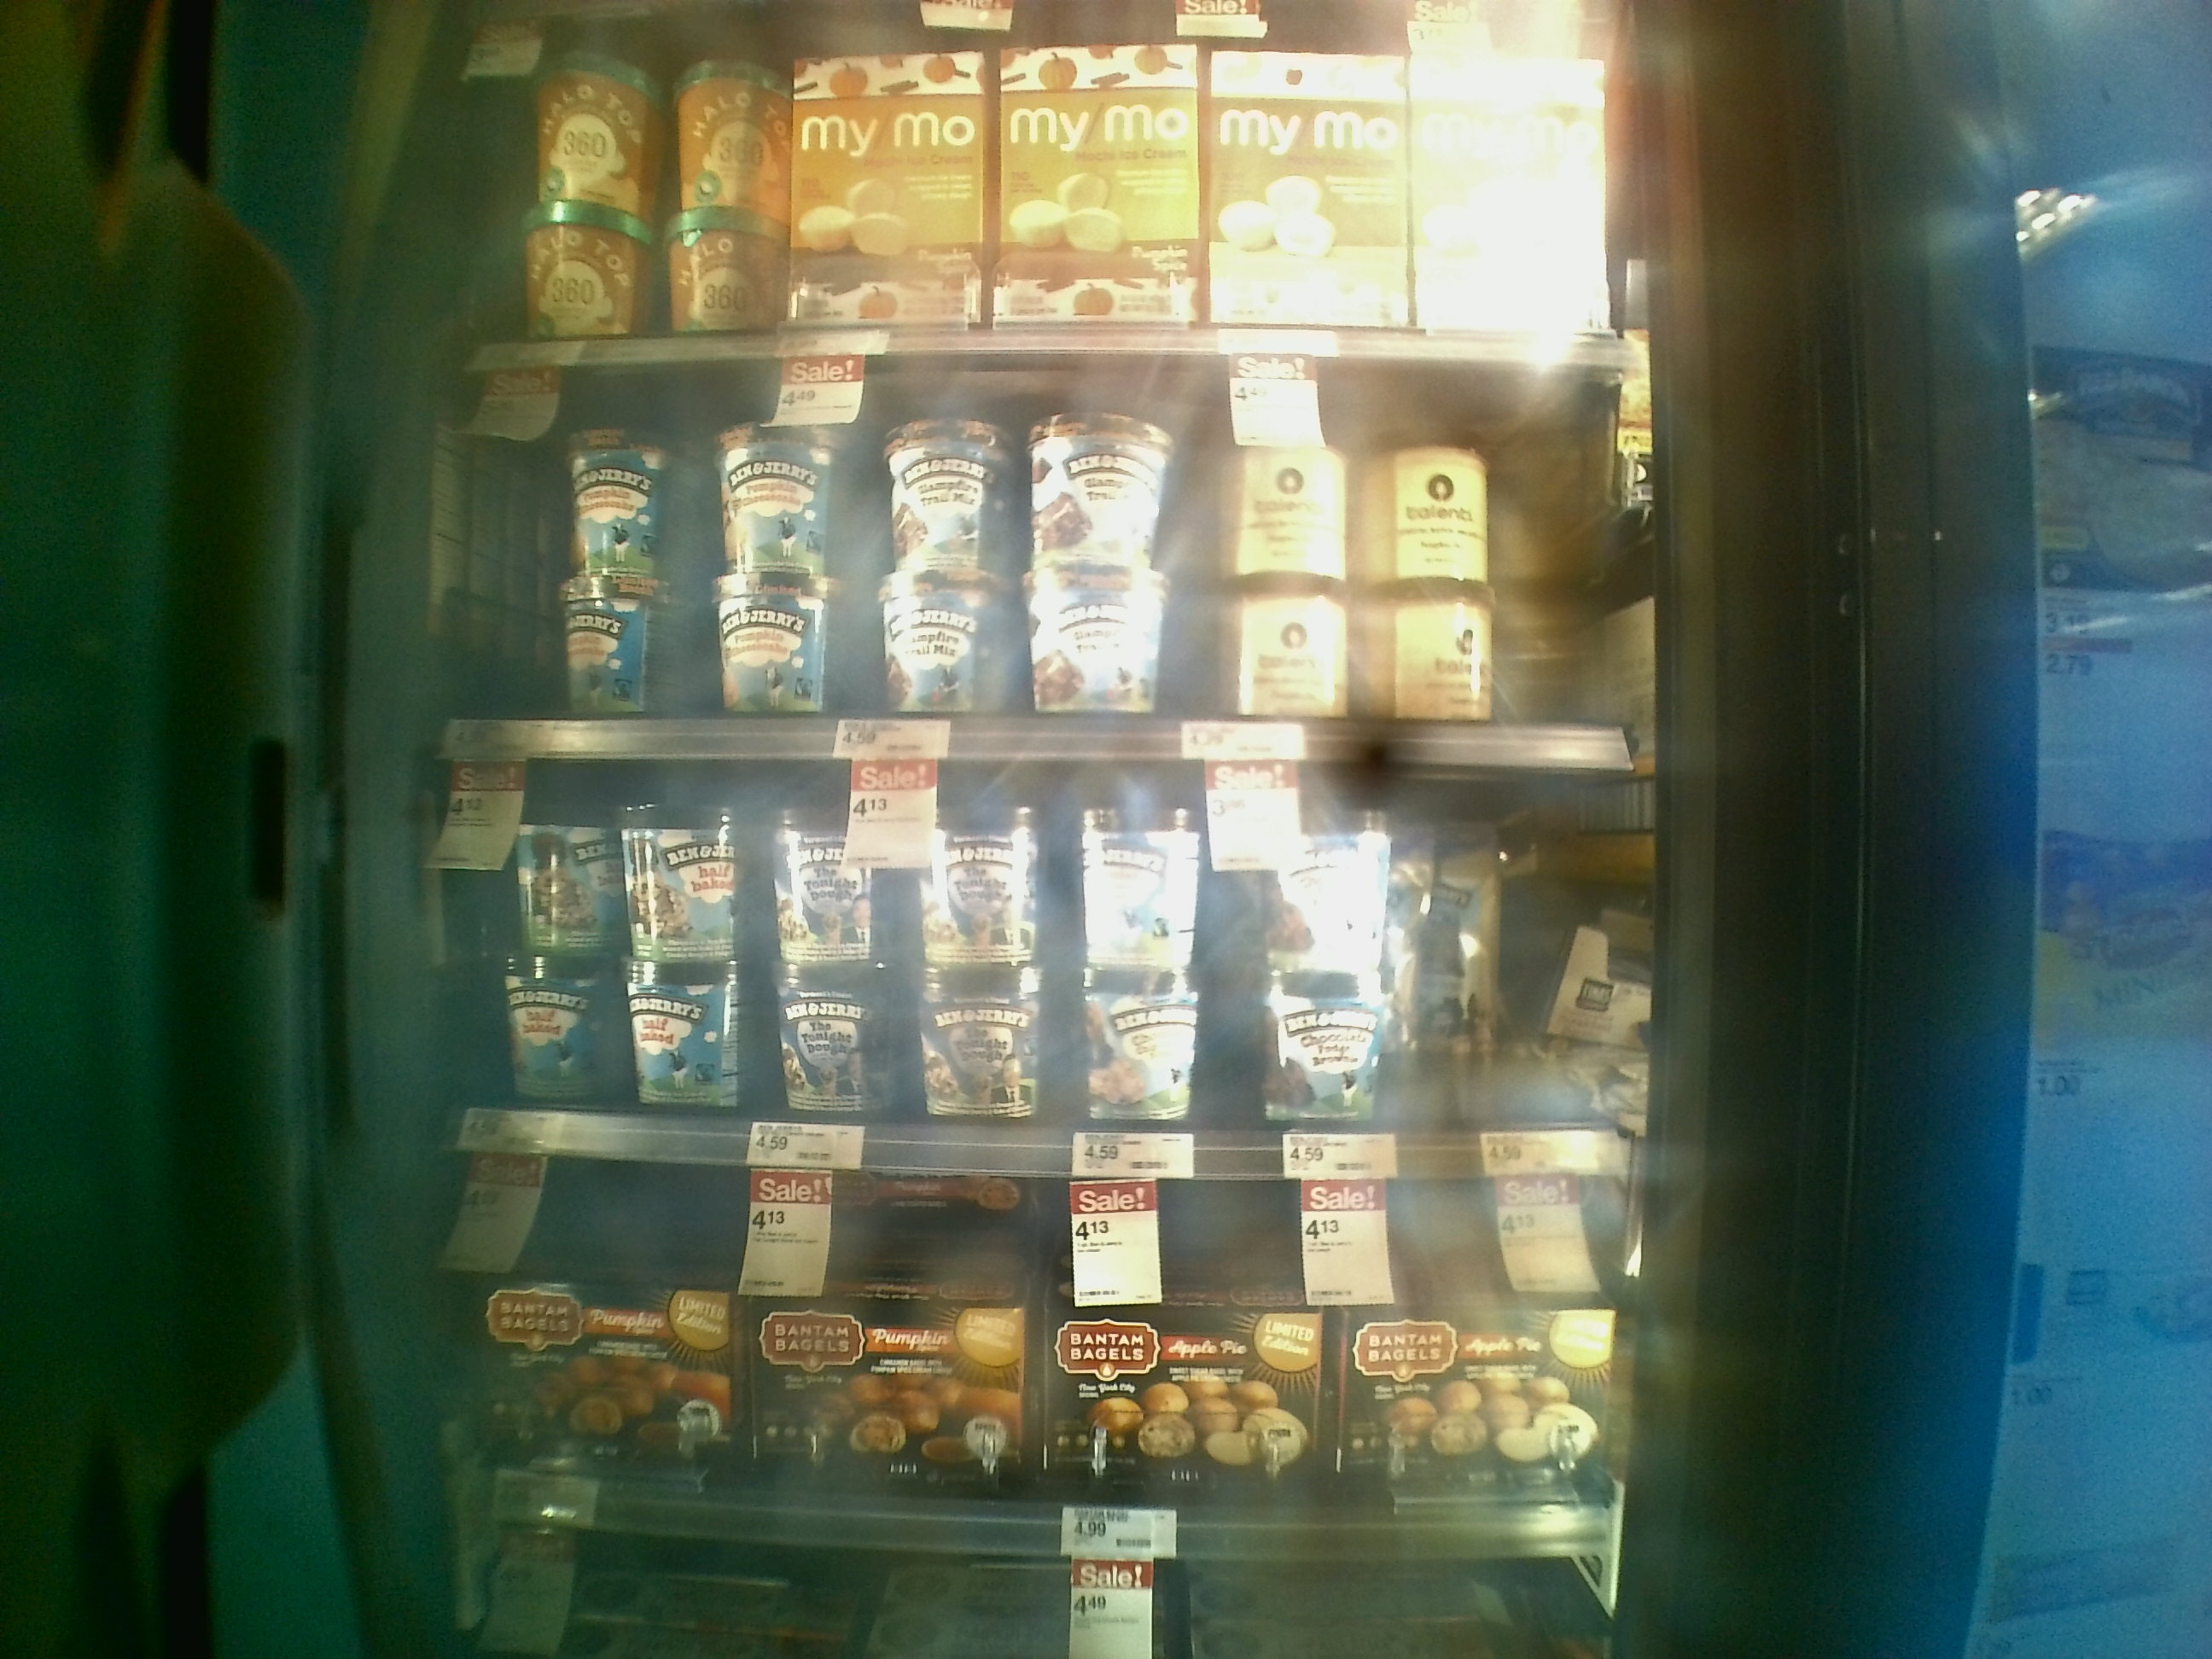shelf: (399, 760, 1646, 1182), (423, 354, 1649, 775), (420, 1143, 1625, 1572)
